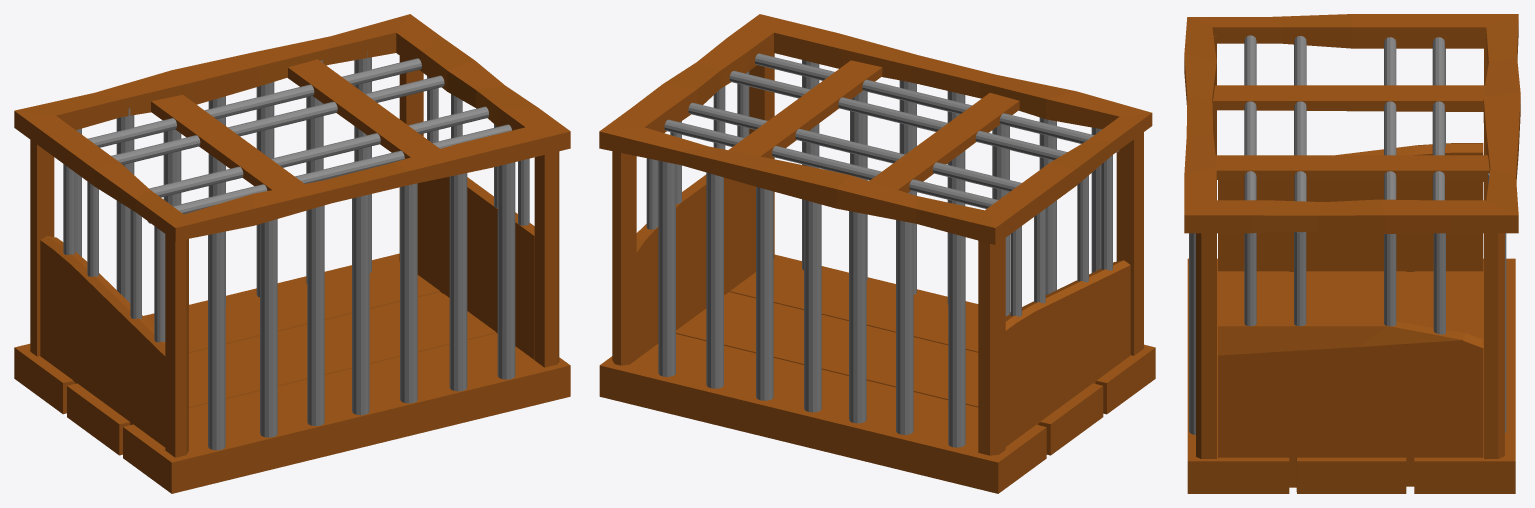
3 renders of one model, left to right at view 1: azimuth 30°, elevation 25°; view 2: azimuth 150°, elevation 25°; view 3: azimuth 270°, elevation 25°, orthographic. The views are drawn at different scales.
Visible parts, largest first — view 1: Cube.111, Cube.118, Cube.116, Cube.117, Cube.115, Cube.113, Cube.120, Cube.119, Cylinder.049, Cylinder.050, Cylinder.051, Cylinder.052 (+20 smaller); view 2: Cube.111, Cube.118, Cube.116, Cube.117, Cube.112, Cube.114, Cube.113, Cube.120, Cube.119, Cylinder.043, Cylinder.042, Cylinder.041 (+21 smaller); view 3: Cube.117, Cube.118, Cube.111, Cube.116, Cube.120, Cube.119, Cube.115, Cube.114, Cylinder.064, Cylinder.065, Cylinder.063, Cylinder.062 (+6 smaller).
Boxes of the visible parts, x1=… form: Cube.111: x1=14, y1=253, x2=570, y2=493; Cube.118: x1=14, y1=14, x2=570, y2=241; Cube.116: x1=40, y1=236, x2=165, y2=447; Cube.117: x1=417, y1=176, x2=534, y2=359; Cube.115: x1=534, y1=151, x2=559, y2=367; Cube.113: x1=165, y1=234, x2=188, y2=457; Cube.120: x1=287, y1=59, x2=439, y2=158; Cube.119: x1=151, y1=94, x2=304, y2=190; Cylinder.049: x1=449, y1=173, x2=467, y2=391; Cylinder.050: x1=497, y1=162, x2=515, y2=379; Cylinder.051: x1=352, y1=194, x2=369, y2=415; Cylinder.052: x1=400, y1=183, x2=417, y2=403; Cube.111: x1=599, y1=254, x2=1155, y2=493; Cube.118: x1=599, y1=14, x2=1152, y2=244; Cube.116: x1=1005, y1=260, x2=1130, y2=446; Cube.117: x1=636, y1=174, x2=755, y2=358; Cube.112: x1=978, y1=238, x2=1005, y2=455; Cube.114: x1=612, y1=151, x2=636, y2=365; Cube.113: x1=1116, y1=132, x2=1143, y2=355; Cube.120: x1=728, y1=60, x2=882, y2=158; Cube.119: x1=869, y1=93, x2=1019, y2=192; Cylinder.043: x1=658, y1=160, x2=675, y2=376; Cylinder.042: x1=706, y1=172, x2=723, y2=388; Cylinder.041: x1=896, y1=220, x2=913, y2=434; Cube.117: x1=1218, y1=321, x2=1483, y2=458; Cube.118: x1=1184, y1=14, x2=1520, y2=233; Cube.111: x1=1187, y1=258, x2=1515, y2=493; Cube.116: x1=1218, y1=143, x2=1483, y2=271; Cube.120: x1=1215, y1=155, x2=1489, y2=181; Cube.119: x1=1213, y1=85, x2=1484, y2=111; Cube.115: x1=1196, y1=233, x2=1216, y2=458; Cube.114: x1=1484, y1=233, x2=1504, y2=458; Cylinder.064: x1=1294, y1=36, x2=1306, y2=233; Cylinder.065: x1=1244, y1=35, x2=1256, y2=233; Cylinder.063: x1=1432, y1=37, x2=1444, y2=233; Cylinder.062: x1=1384, y1=37, x2=1396, y2=199.
Size of the model in its own units: 293 by 188 by 205.
